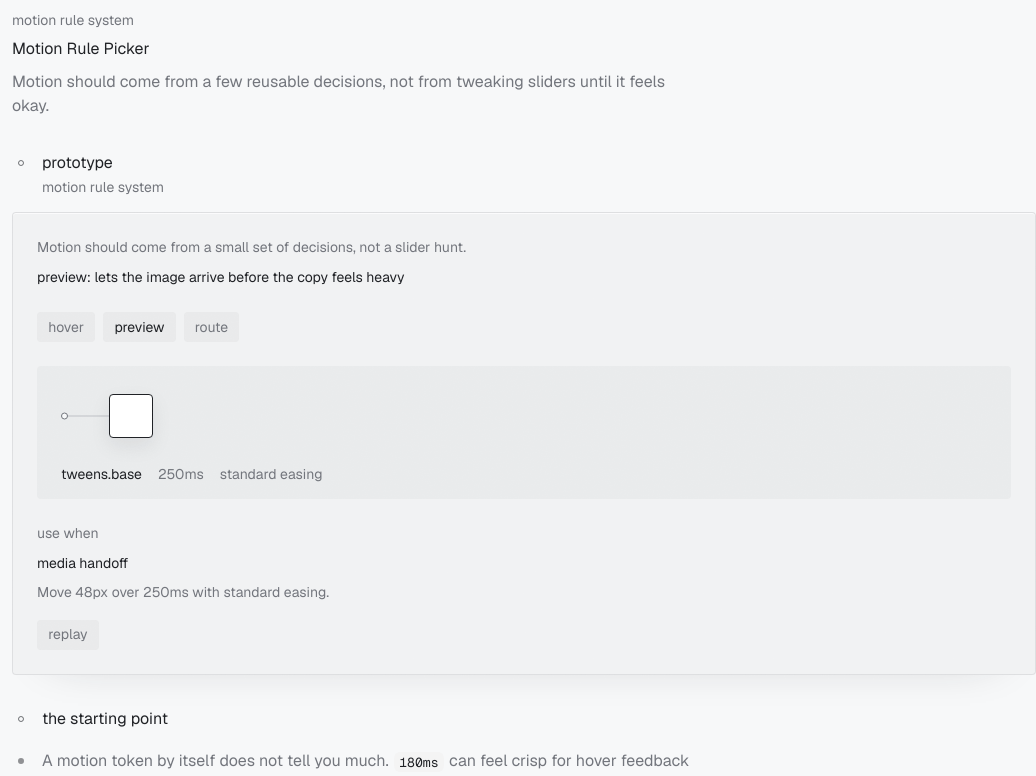
it: LabStudyDetailView interactions › switches between predefined motion rules
Expected: the text "Motion should come from a small set of decisions, not a slider hunt." is shown, [37,238,466,256]
Expected: the text "tweens.base" is shown, [61,466,142,483]
Step 1. Click the button "route" → {"x": 212, "y": 327}, box [184,312,239,342]
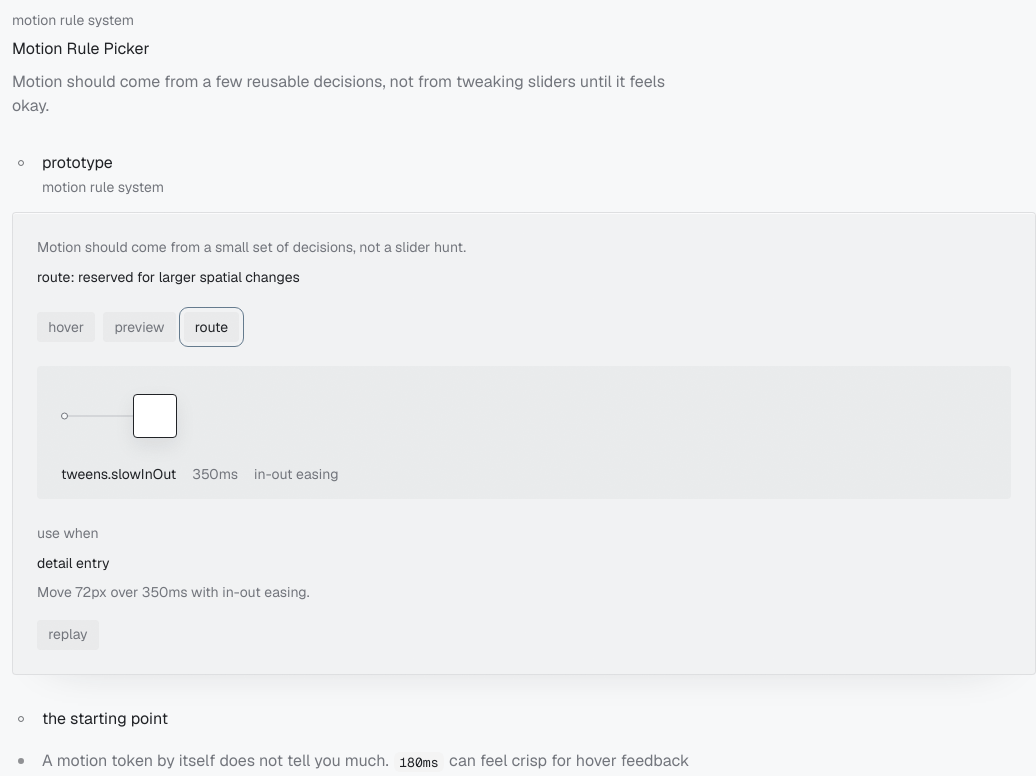
Expected: the text "tweens.slowInOut" is shown, [61,466,176,483]
Expected: the text "Move 72px over 350ms with in-out easing." is shown, [37,583,310,601]
